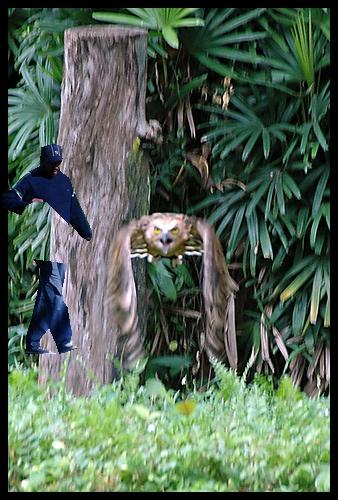tampered: (3, 145, 92, 354)
